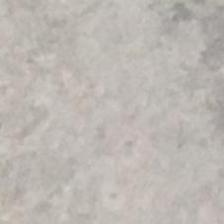Non_Crack: (17, 23, 192, 210)
